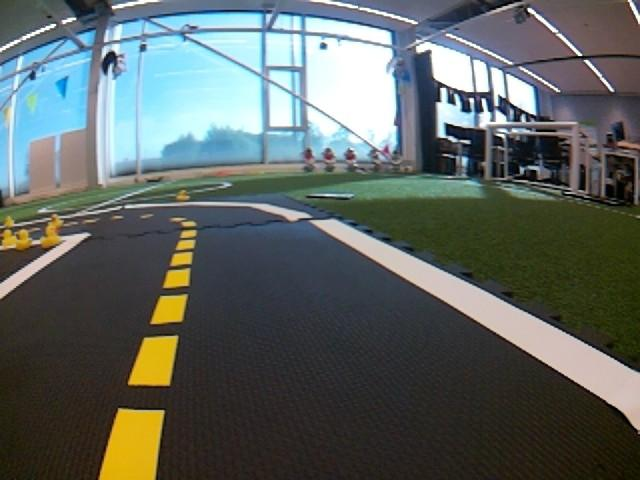Duckies: (40, 228, 61, 248), (0, 230, 18, 249), (16, 229, 31, 249), (48, 214, 63, 229), (176, 190, 190, 201), (4, 217, 16, 228)
